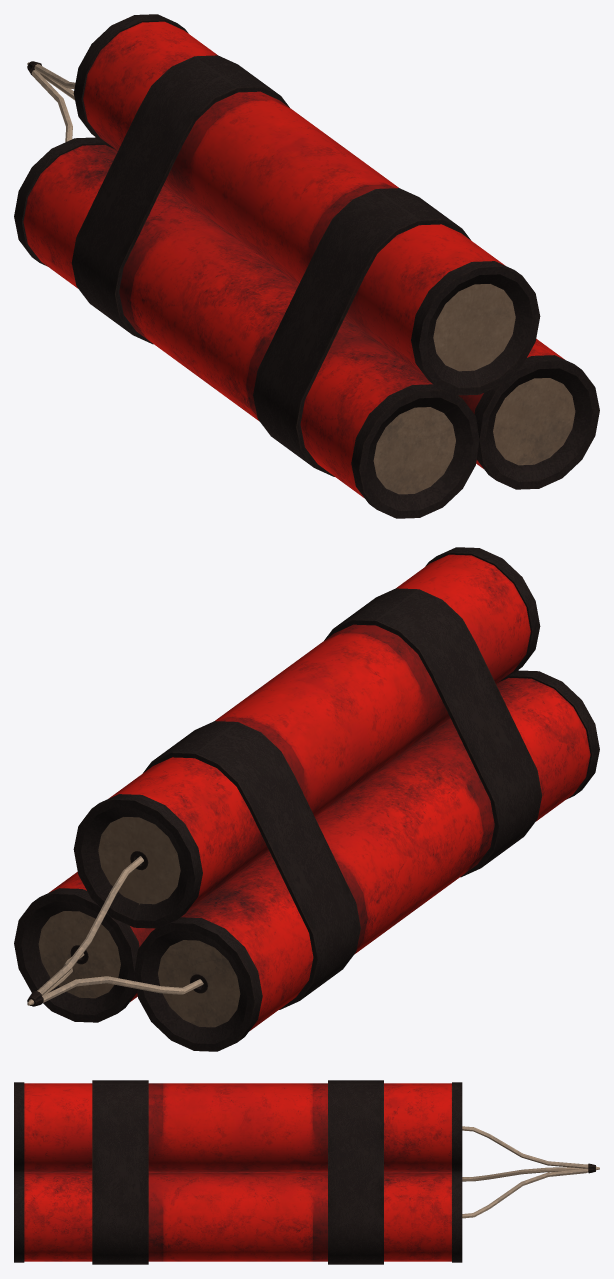
The model's file is Dinamite.fbx.
3 views of the same model, one above another, from view 1: azimuth 30°, elevation 25°; view 2: azimuth 150°, elevation 25°; view 3: azimuth 270°, elevation 25° (orthographic). The views are drawn at different scales.
Visible parts, largest first — view 1: Cylinder; view 2: Cylinder; view 3: Cylinder.
Part boxes in pixels (x1,y1,x2,y2): Cylinder: (14,14,599,518); Cylinder: (14,547,599,1051); Cylinder: (14,1080,599,1264).
Bounding box in the file's own units: 10.5 × 9.81 × 33.36.
